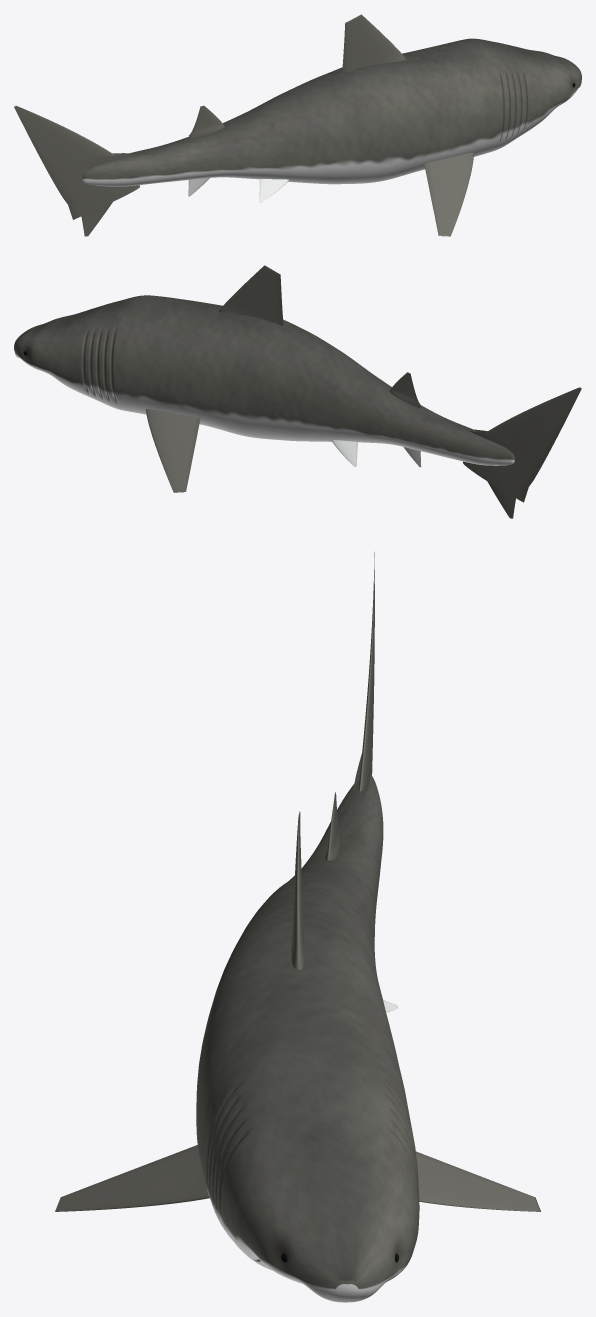
The model's file is caribbean_reef_shark.glb.
3 renders of one model, top to bottom at view 1: azimuth 30°, elevation 25°; view 2: azimuth 150°, elevation 25°; view 3: azimuth 270°, elevation 25°, orthographic. The views are drawn at different scales.
Visible parts, largest first — view 1: CaribbeanReefShark_Body, CaribbeanReefShark_Fins; view 2: CaribbeanReefShark_Body, CaribbeanReefShark_Fins; view 3: CaribbeanReefShark_Body, CaribbeanReefShark_Fins.
Part boxes in pixels (left/top/right/bottom): CaribbeanReefShark_Body: left=82, top=38, right=581, bottom=186; CaribbeanReefShark_Fins: left=14, top=14, right=473, bottom=236; CaribbeanReefShark_Body: left=14, top=295, right=514, bottom=465; CaribbeanReefShark_Fins: left=146, top=265, right=581, bottom=518; CaribbeanReefShark_Body: left=196, top=775, right=419, bottom=1302; CaribbeanReefShark_Fins: left=55, top=552, right=540, bottom=1211.
Bounding box in the file's own units: 2.2 × 0.6943 × 0.8302.
Materials: 3 (1 with a texture image).
